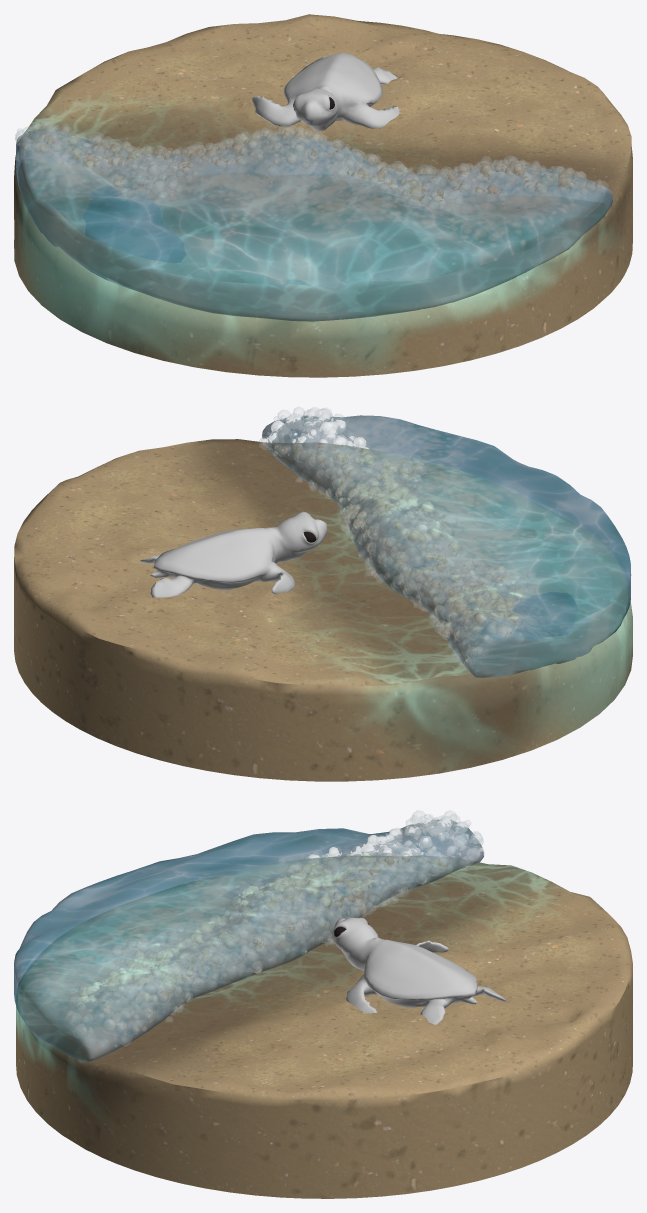
3 renders of one model, top to bottom at view 1: azimuth 30°, elevation 25°; view 2: azimuth 150°, elevation 25°; view 3: azimuth 270°, elevation 25°, orthographic. The views are drawn at different scales.
Visible parts, largest first — view 1: beach_low, water_low, bubbels, body_low001; view 2: beach_low, water_low, bubbels, body_low001; view 3: beach_low, water_low, bubbels, body_low001.
Part boxes in pixels (<box>): beach_low: <box>14,14,632,377</box>; water_low: <box>16,129,612,321</box>; bubbels: <box>15,120,608,210</box>; body_low001: <box>252,53,399,131</box>; beach_low: <box>14,439,632,781</box>; water_low: <box>262,415,631,677</box>; bubbels: <box>259,407,536,669</box>; body_low001: <box>140,511,327,597</box>; beach_low: <box>16,855,632,1198</box>; water_low: <box>14,819,483,1062</box>; bubbels: <box>66,810,484,1047</box>; body_low001: <box>332,917,506,1024</box>.
Bounding box in the file's own units: 1.15 × 0.3029 × 1.12.
